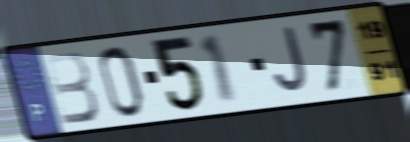0: (96, 43, 147, 119)
1: (197, 31, 239, 108)
5: (146, 32, 207, 113)
7: (307, 16, 350, 95)
B: (41, 48, 102, 127)
J: (271, 24, 312, 96)
